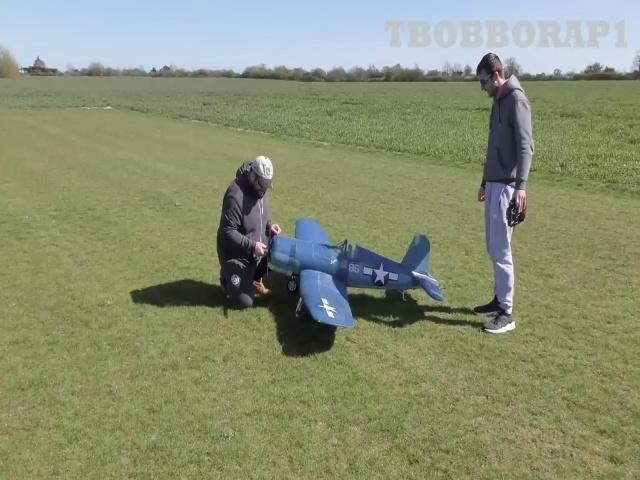Airplane: (265, 218, 444, 326)
